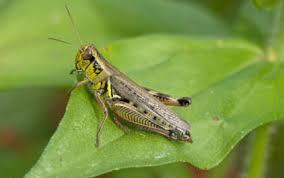insect: (46, 3, 196, 152)
